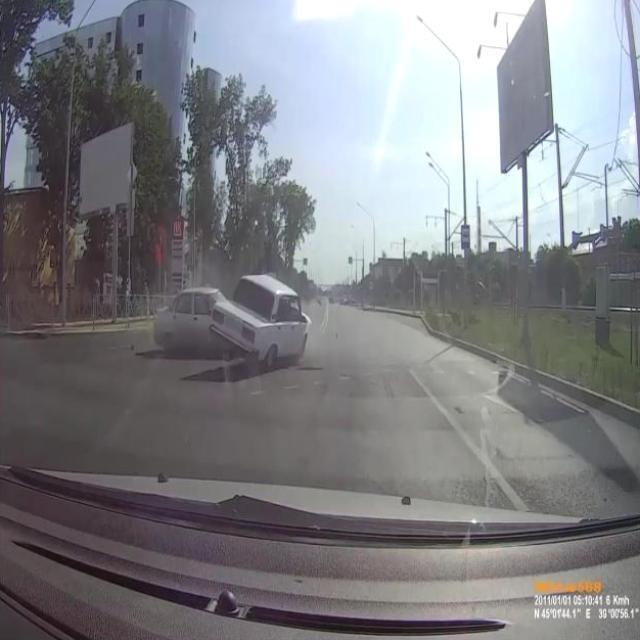accident: (151, 268, 312, 368)
